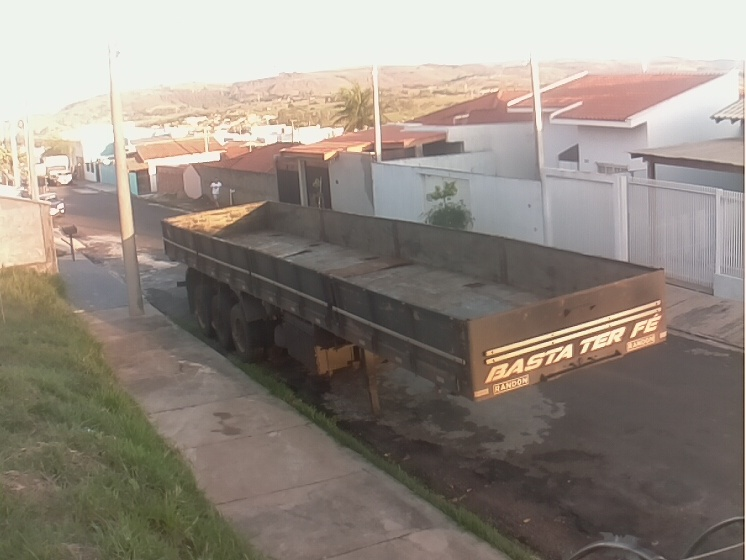person: (207, 178, 226, 206)
